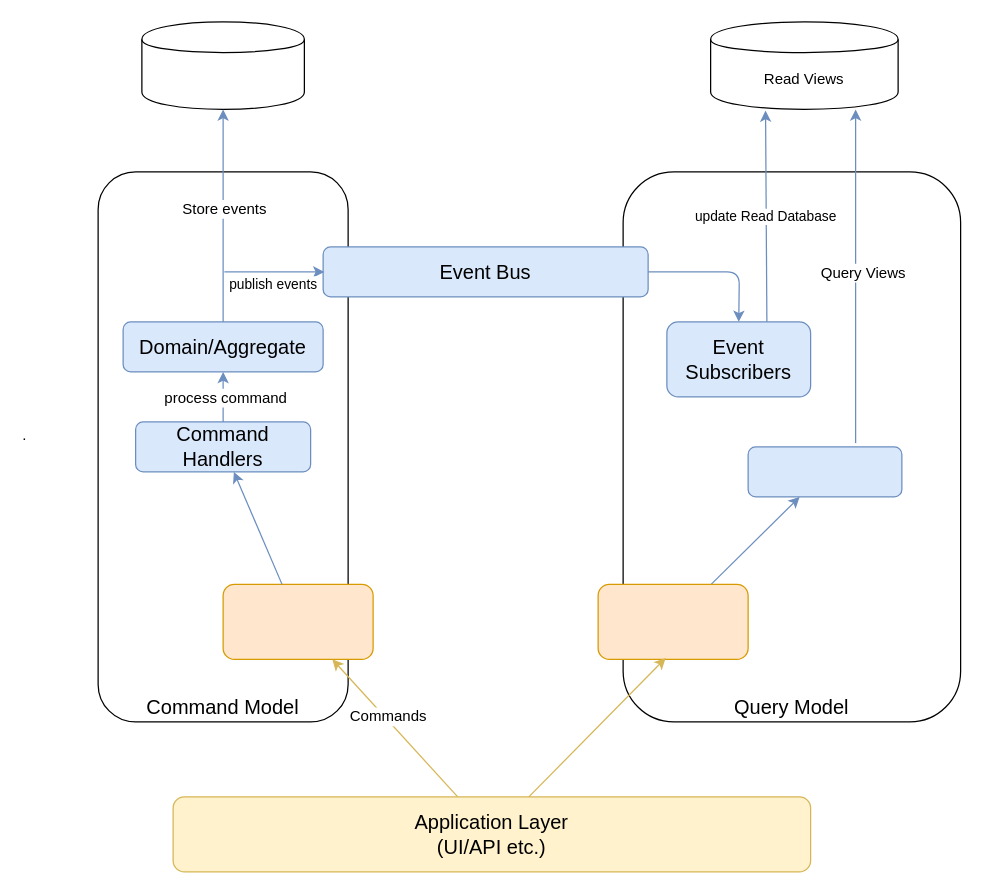
Some shapes in this 983 by 894 pixel diagram are drawn without their labels. The box of each missing label's shape, as (x1, y1, x2, y2) in pixels:
Command Interfaces: (222, 583, 373, 659)
Event Storage: (141, 21, 304, 109)
Query Handlers: (747, 446, 902, 497)
Query Interfaces: (597, 583, 748, 659)
